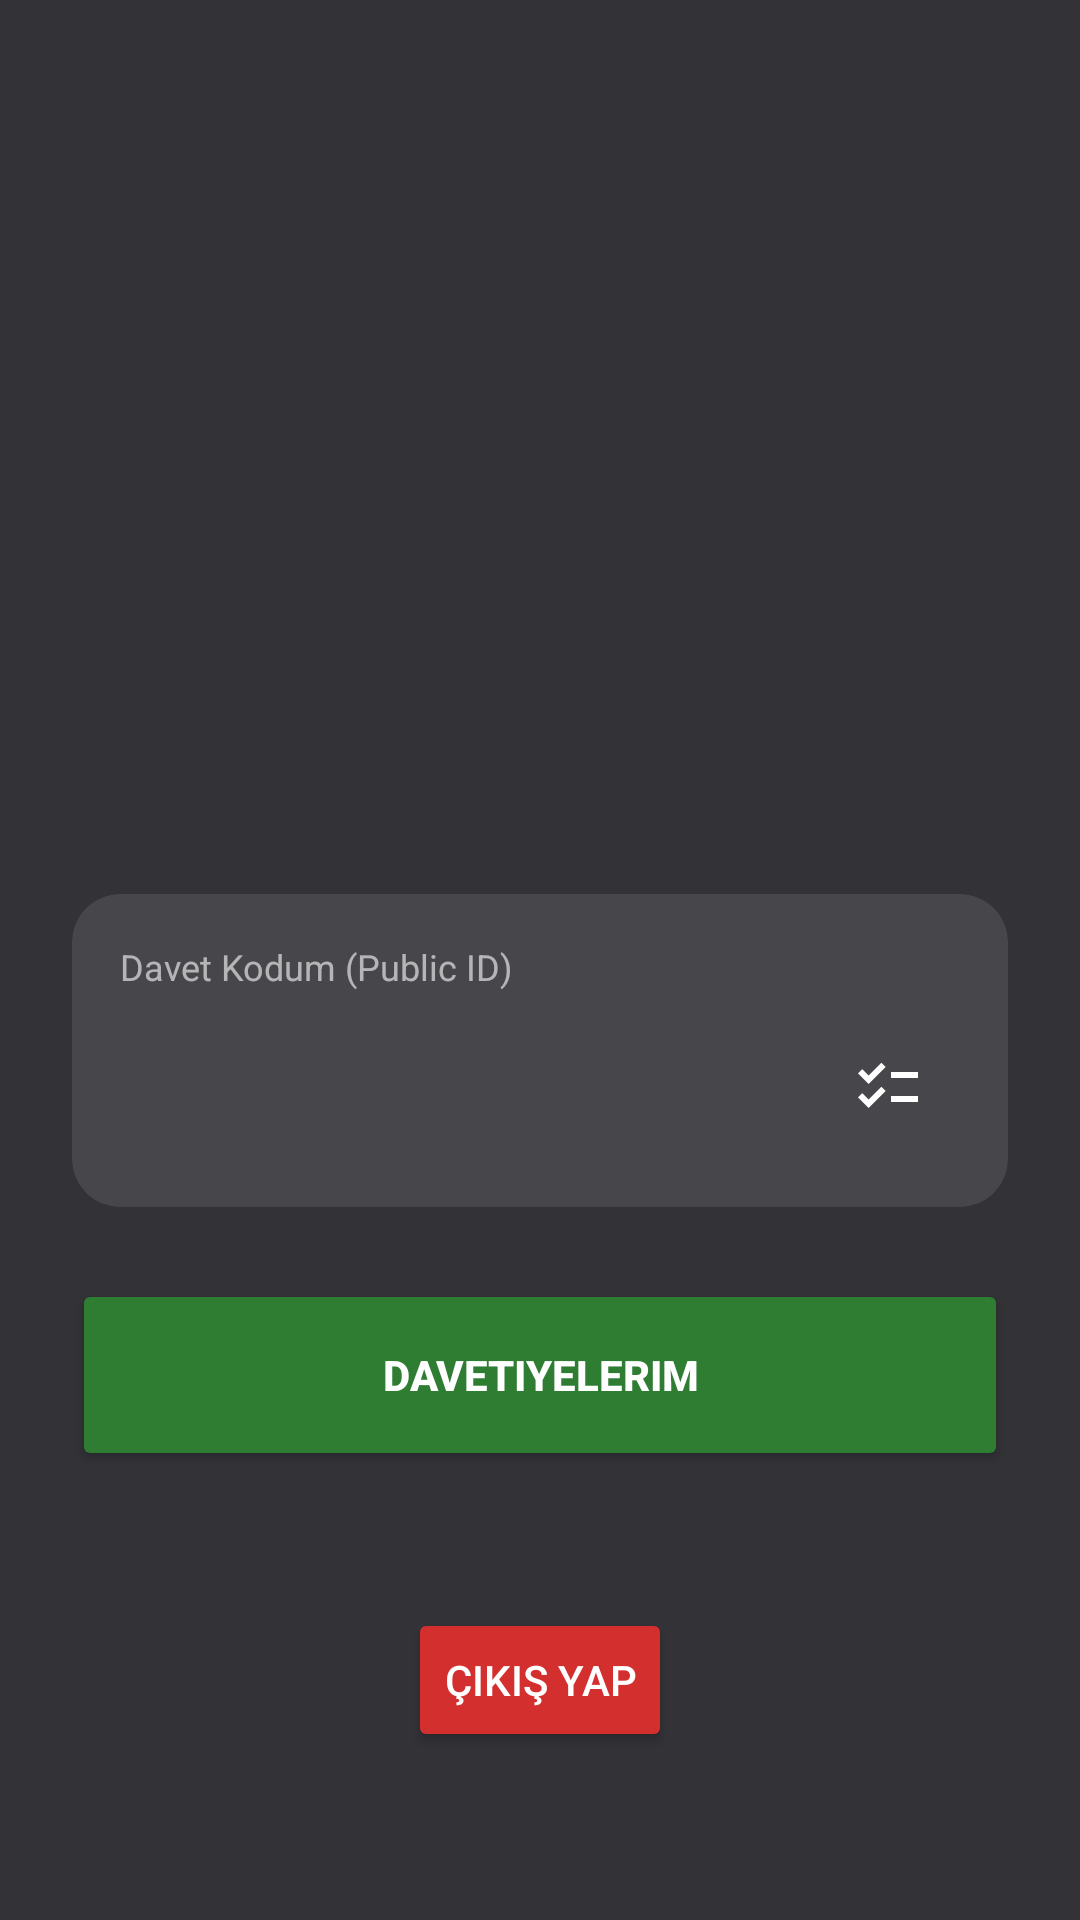

Named icons in this screenshot (1080 × 1920) and their centers, point (x, y):
list: point (888, 1085)
